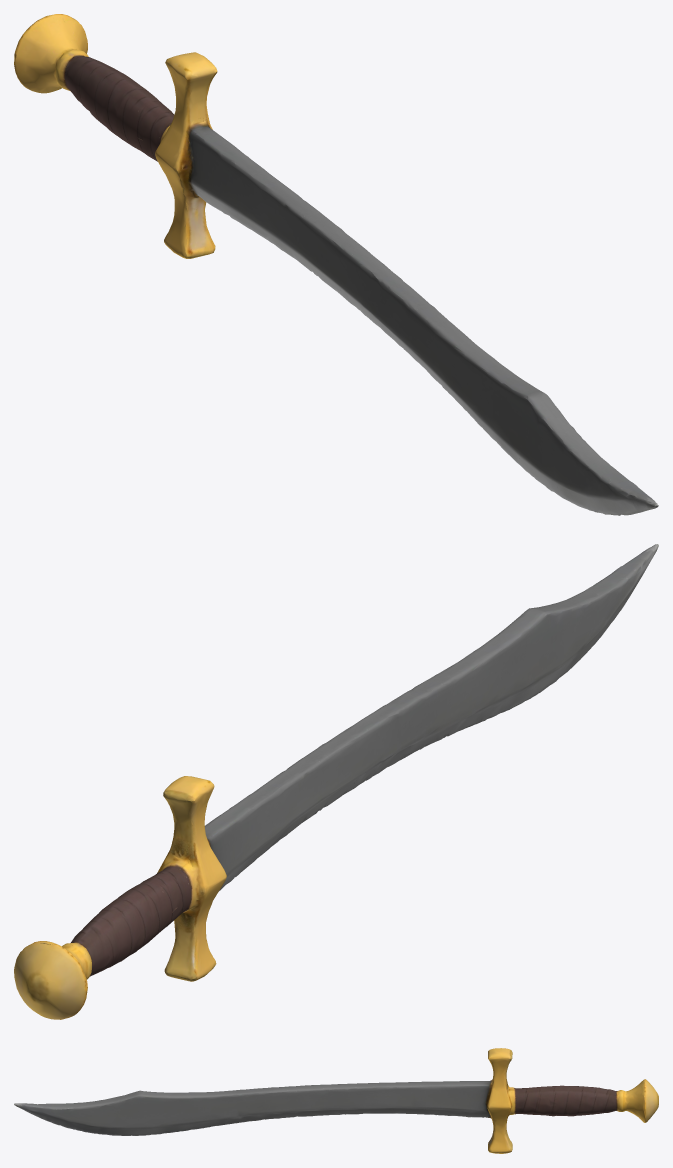
The model's file is scimitar.high.glb.
3 views of the same model, one above another, from view 1: azimuth 30°, elevation 25°; view 2: azimuth 150°, elevation 25°; view 3: azimuth 270°, elevation 25° (orthographic). The views are drawn at different scales.
Visible parts, largest first — view 1: model; view 2: model; view 3: model.
Part boxes in pixels (box(x1,y1,x2,y2)): model: box(14, 14, 658, 515); model: box(14, 544, 658, 1019); model: box(14, 1048, 658, 1153).
Bounding box in the file's own units: 0.0614 × 0.1566 × 0.9.
Materials: 1 (1 with a texture image).
